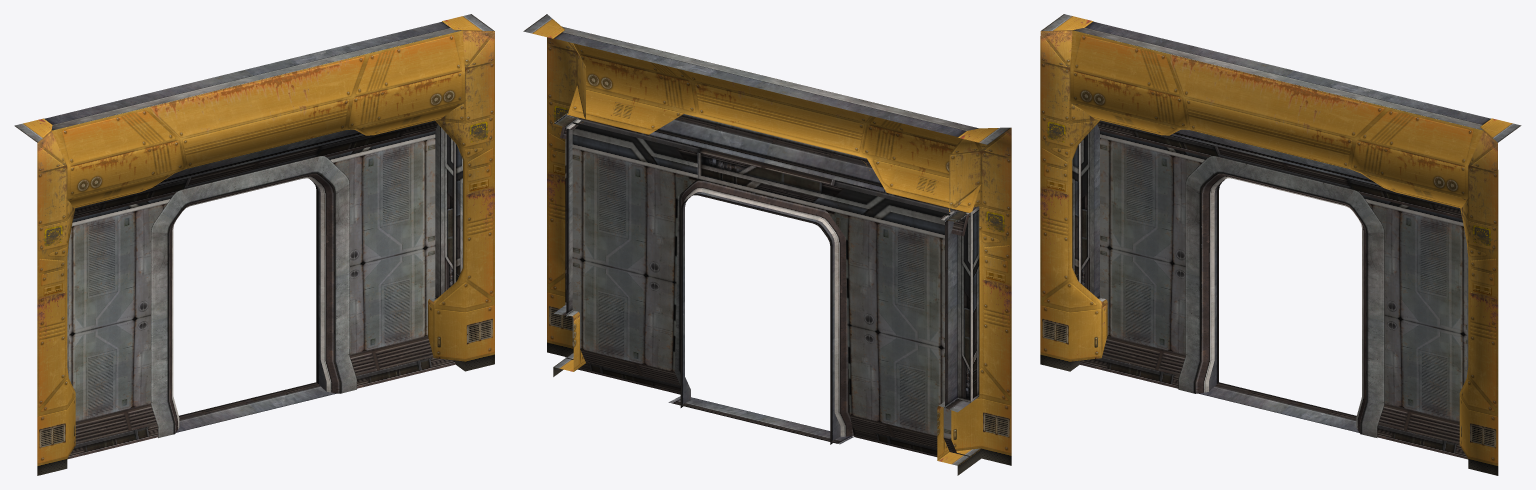
Rendered from ARC_WallFrontA_DoorSmallFrame_CONNECT.FBX.
The picture shows the model from 3 angles, left to right: view 1: azimuth 30°, elevation 25°; view 2: azimuth 150°, elevation 25°; view 3: azimuth 330°, elevation 25°; orthographic projection.
Parts seen in each view (by area): view 1: ARC_WallFrontA_DoorSmallFrame_CONNECT; view 2: ARC_WallFrontA_DoorSmallFrame_CONNECT; view 3: ARC_WallFrontA_DoorSmallFrame_CONNECT.
Boxes of the visible parts, bbox=[...] form: ARC_WallFrontA_DoorSmallFrame_CONNECT: bbox=[14, 14, 494, 475]; ARC_WallFrontA_DoorSmallFrame_CONNECT: bbox=[523, 14, 1011, 475]; ARC_WallFrontA_DoorSmallFrame_CONNECT: bbox=[1040, 14, 1521, 475].
Bounding box in the file's own units: 575 × 400 × 51.11.
1 material, 1 textured.
